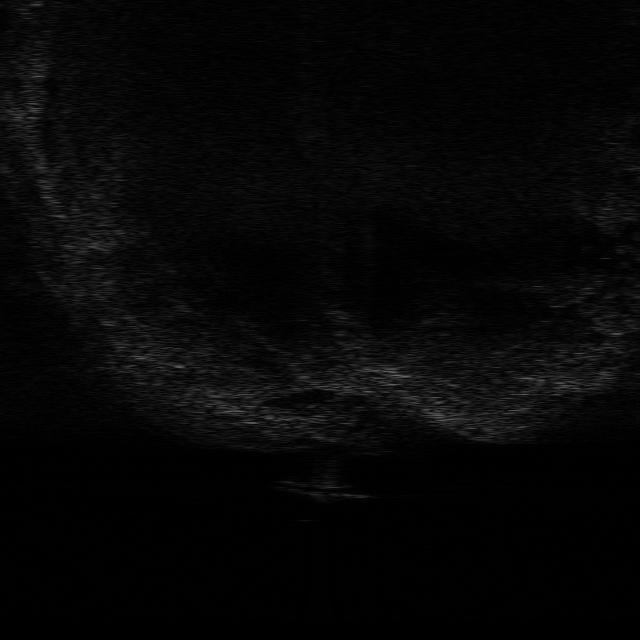plane: (273, 476, 375, 504)
